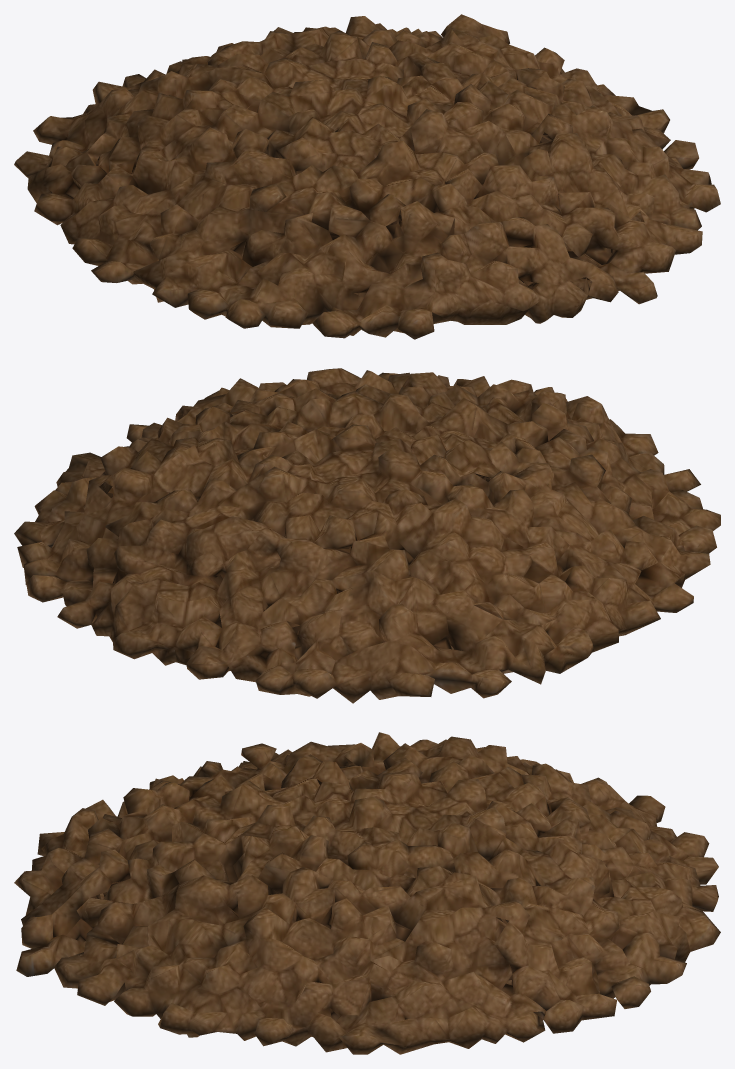
File: Lentejas_Cocidas.fbx
The picture shows the model from 3 angles, top to bottom: view 1: azimuth 30°, elevation 25°; view 2: azimuth 150°, elevation 25°; view 3: azimuth 270°, elevation 25°; orthographic projection. The views are drawn at different scales.
Parts seen in each view (by area): view 1: Mesh_0; view 2: Mesh_0; view 3: Mesh_0.
Boxes of the visible parts, x1,y1,x2,y2 form: Mesh_0: (14, 14, 720, 339); Mesh_0: (14, 368, 720, 703); Mesh_0: (14, 732, 720, 1054).
Bounding box in the file's own units: 185 × 41.29 × 189.
Materials: 1 (1 with a texture image).
